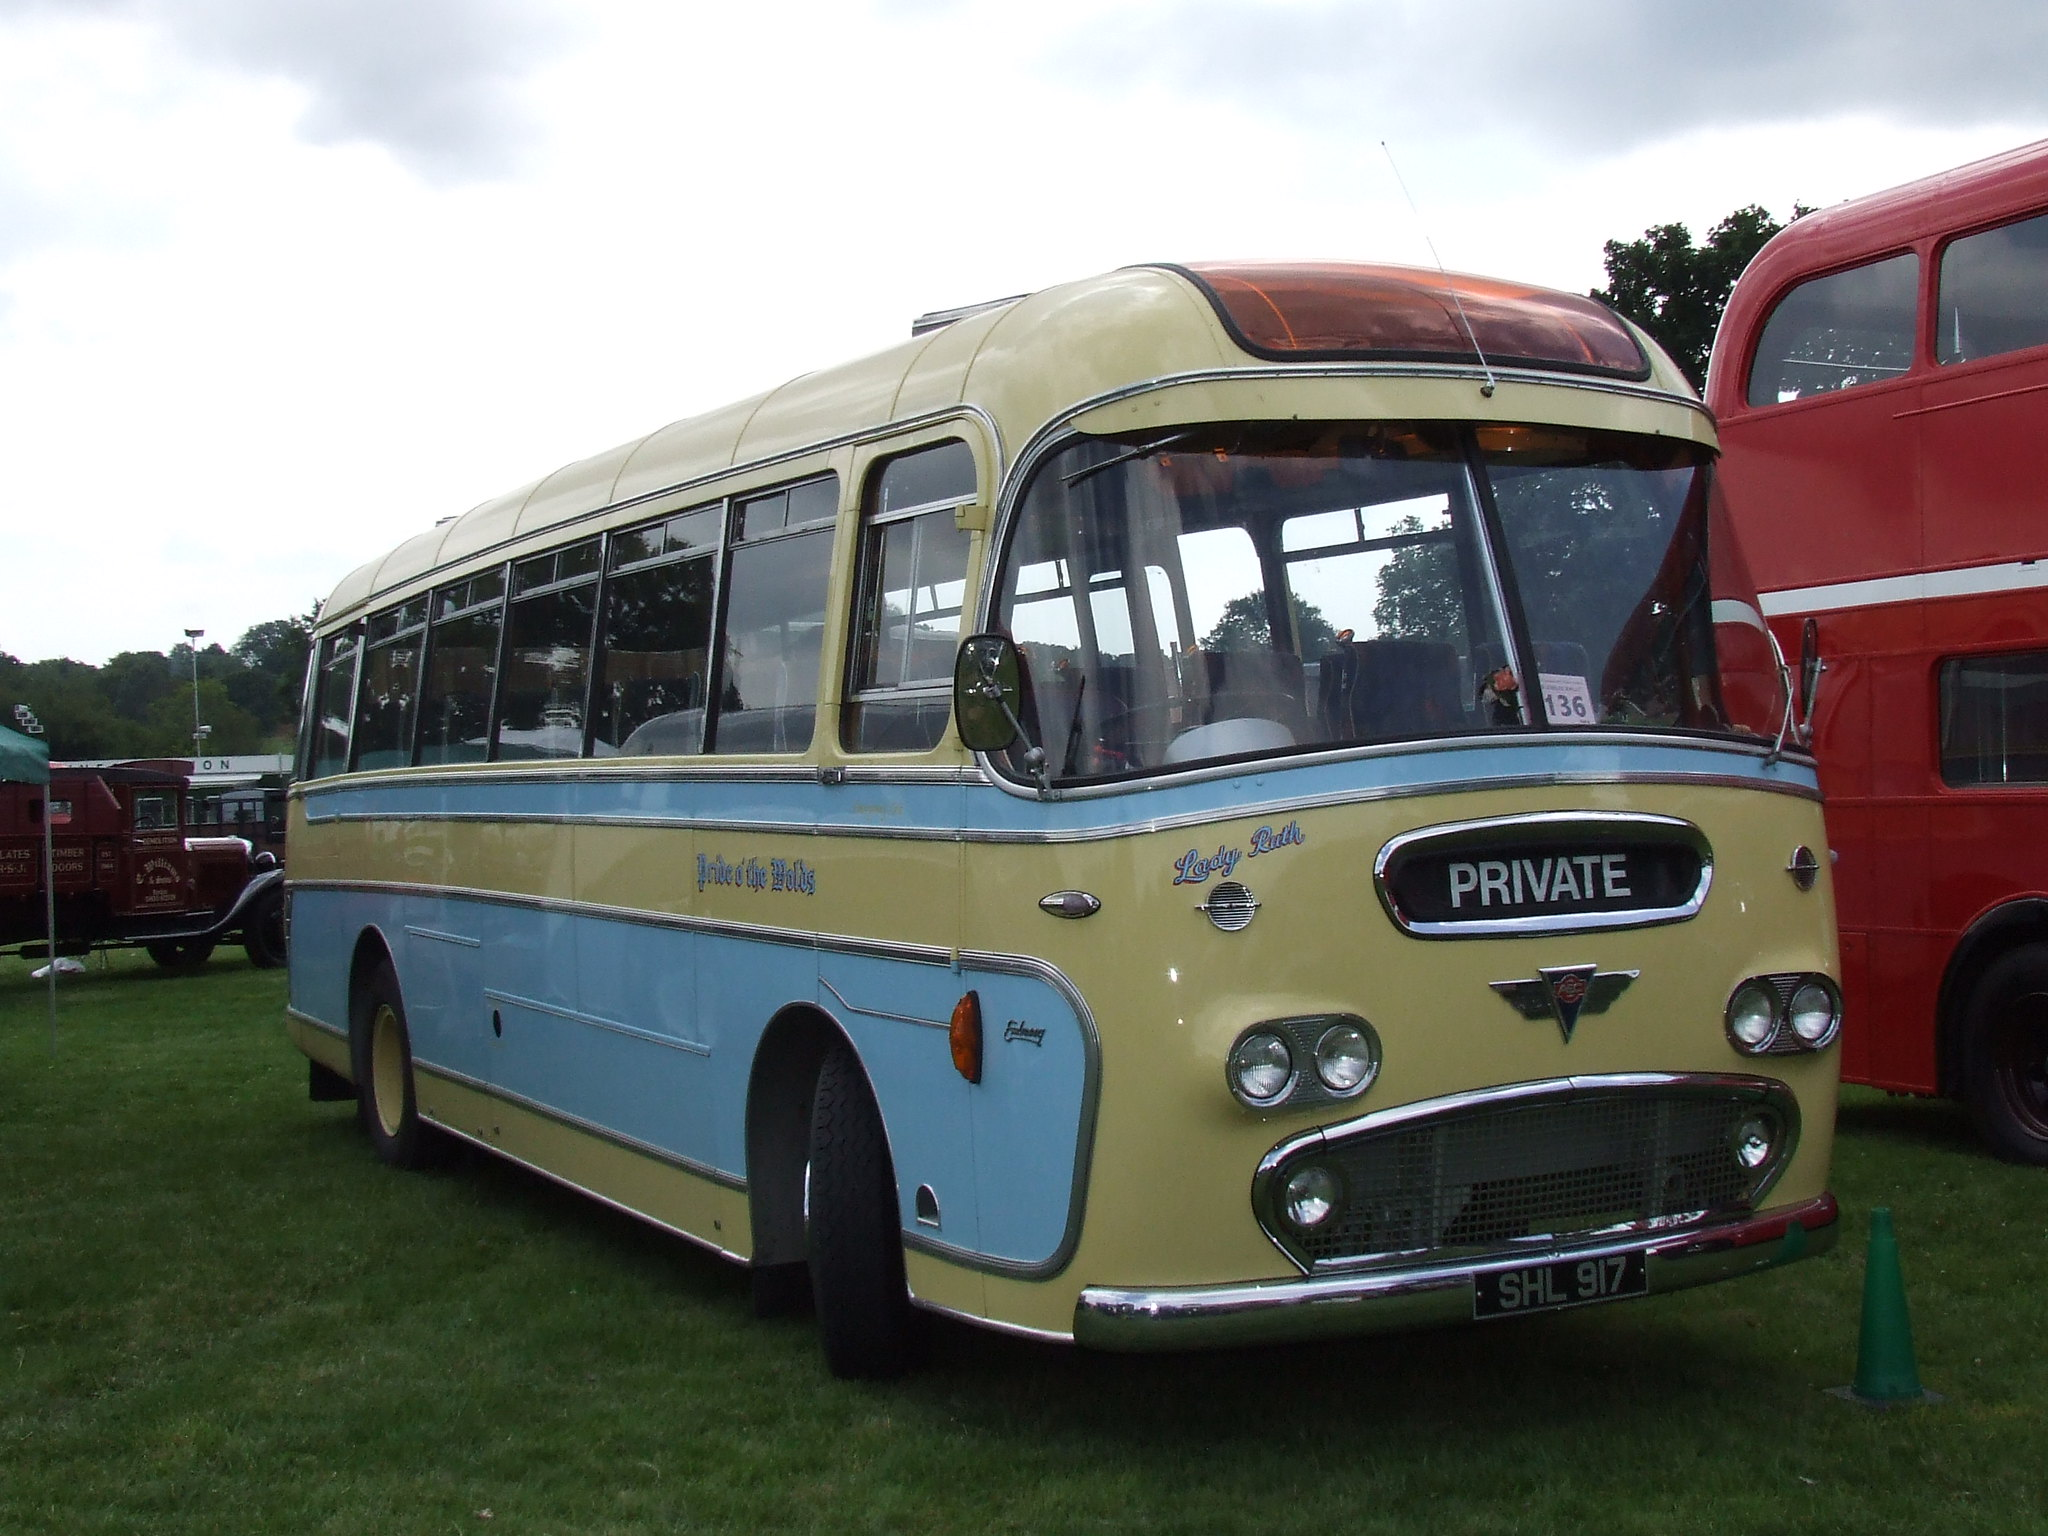bus: (273, 261, 1867, 1433)
